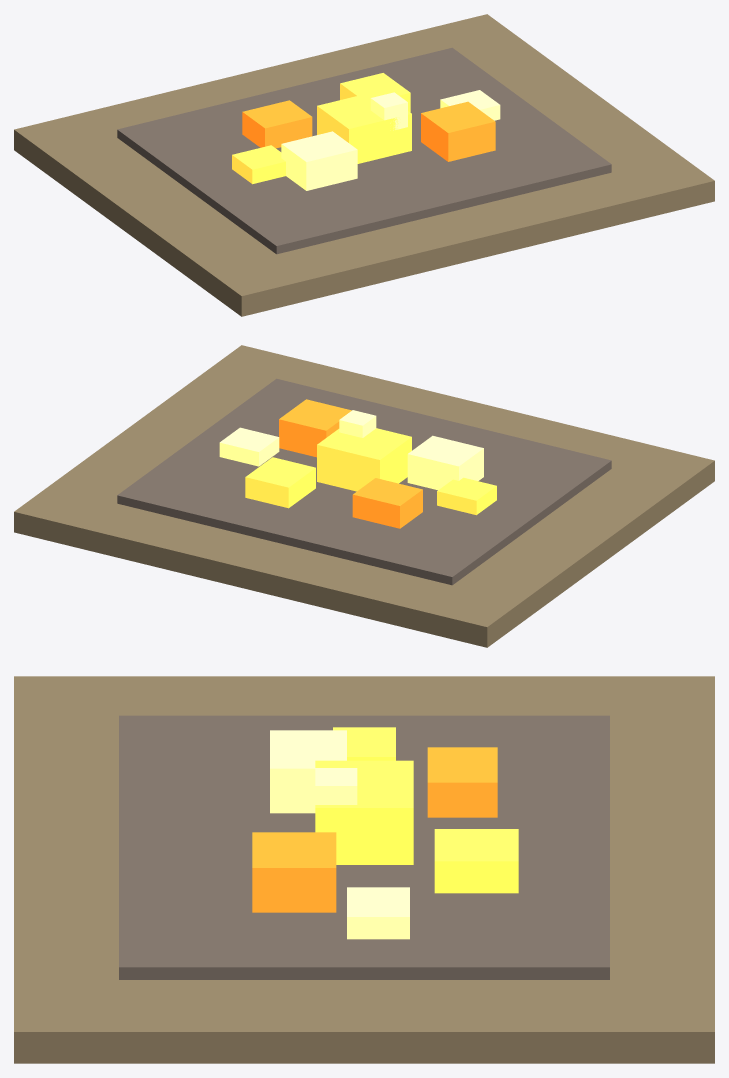
The model's file is ember-patch.glb.
3 views of the same model, one above another, from view 1: azimuth 30°, elevation 25°; view 2: azimuth 150°, elevation 25°; view 3: azimuth 270°, elevation 25° (orthographic). The views are drawn at different scales.
Parts seen in each view (by area): view 1: built-ember-patch; view 2: built-ember-patch; view 3: built-ember-patch.
Part boxes in pixels (left/top/right/bottom): built-ember-patch: left=14, top=14, right=714, bottom=316; built-ember-patch: left=14, top=345, right=714, bottom=647; built-ember-patch: left=14, top=676, right=714, bottom=1063.
Bounding box in the file's own units: 1.2 × 0.19 × 1.
